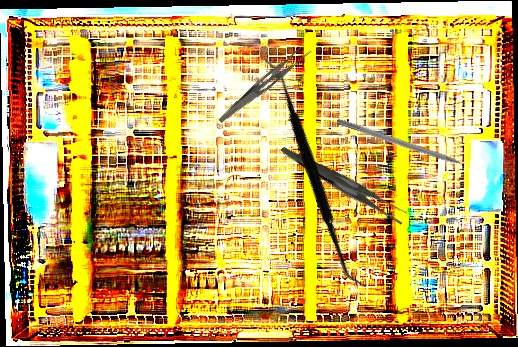Dressing Forceps: (280, 115, 410, 251), (217, 39, 314, 133)
Hook Surgical: (335, 117, 481, 175)
Spatula Surgical: (189, 55, 441, 290)
